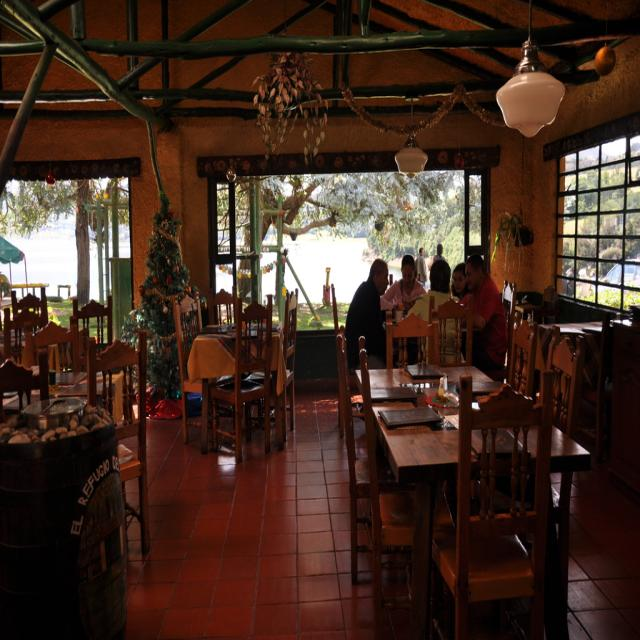chair: (428, 380, 556, 636), (352, 348, 429, 632), (88, 336, 152, 558), (210, 298, 273, 463), (172, 295, 206, 449), (279, 288, 297, 436), (506, 315, 536, 398), (434, 300, 468, 365)
desk: (394, 333, 600, 630)
person: (460, 251, 508, 381), (344, 256, 392, 370), (381, 253, 426, 317), (428, 243, 451, 293), (448, 262, 469, 302), (415, 246, 431, 287)
